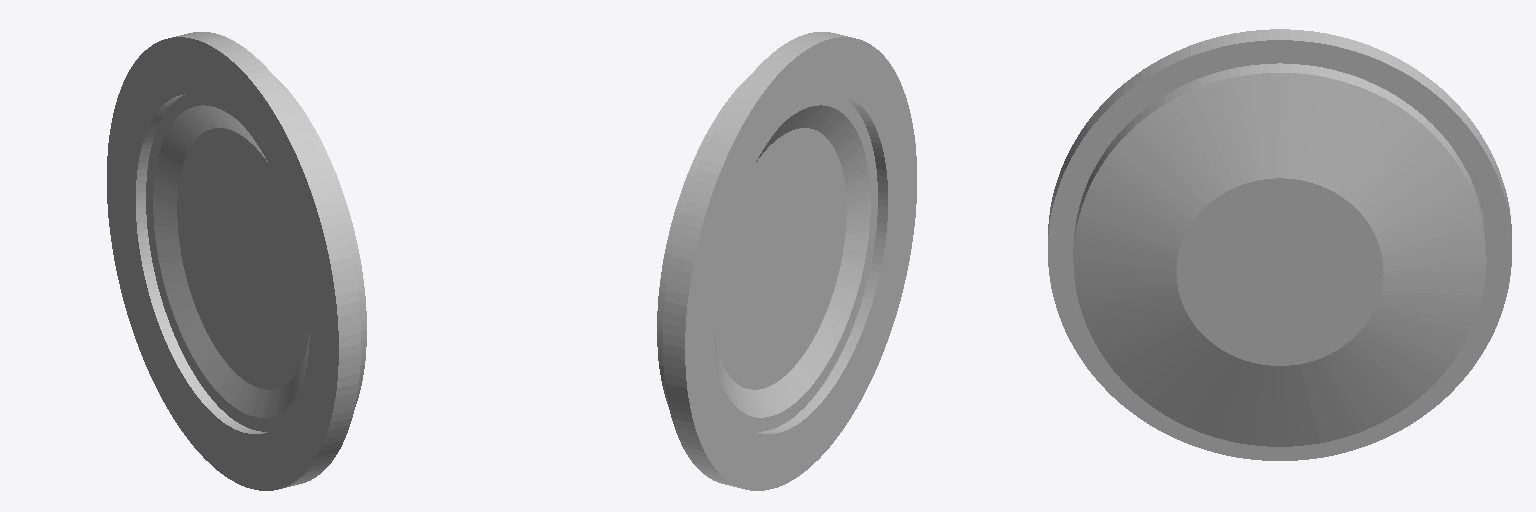
The model's file is escdoor.obj.
3 views of the same model, side by side, from view 1: azimuth 30°, elevation 25°; view 2: azimuth 150°, elevation 25°; view 3: azimuth 270°, elevation 25° (orthographic).
Visible parts, largest first — view 1: EndLid_Cylinder.009; view 2: EndLid_Cylinder.009; view 3: EndLid_Cylinder.009.
Boxes of the visible parts, x1,y1,x2,y2 form: EndLid_Cylinder.009: [107, 32, 366, 490]; EndLid_Cylinder.009: [657, 32, 916, 490]; EndLid_Cylinder.009: [1048, 29, 1511, 460].
Size of the model in its own units: 0.2977 by 1.81 by 1.81.